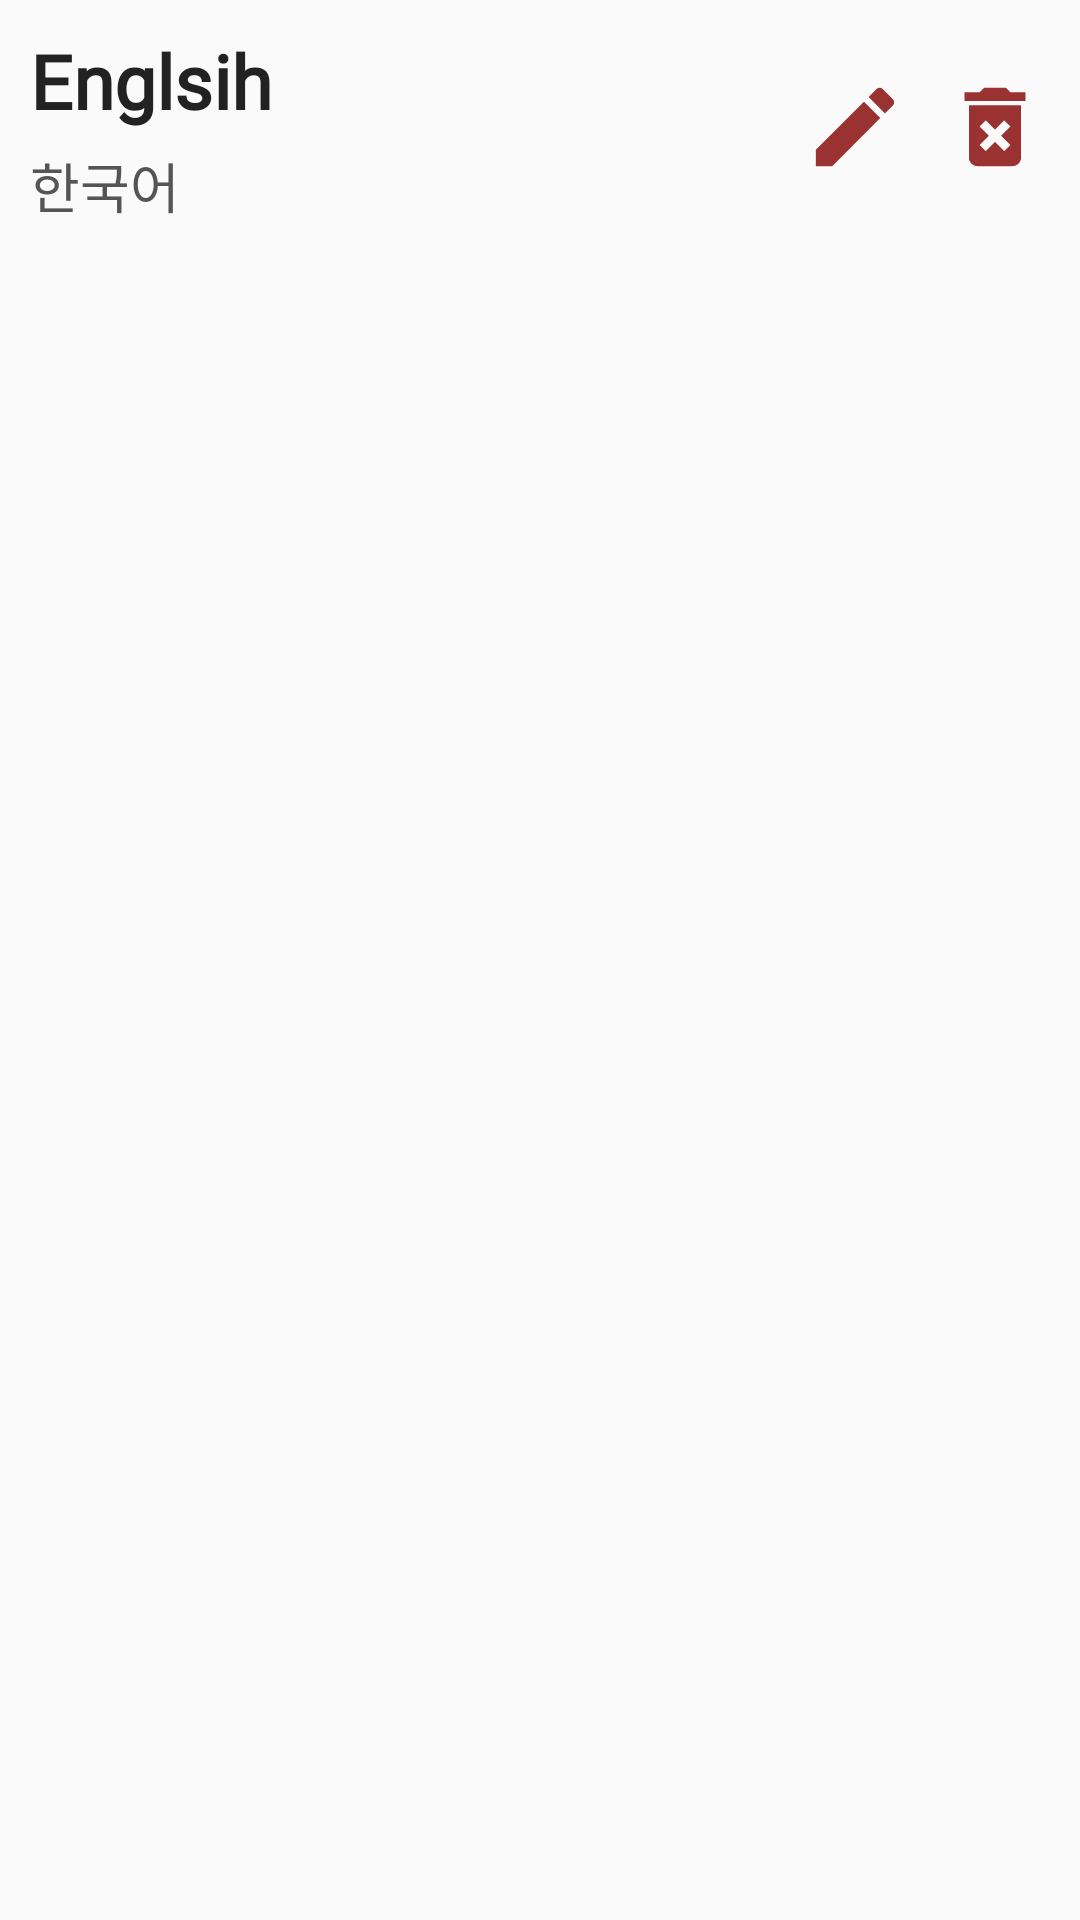

Named icons in this screenshot (1080*1920) and their bounding boxes, (x1, y1, x2, y2):
delete: (964, 87, 1026, 167)
edit: (815, 87, 894, 167)
